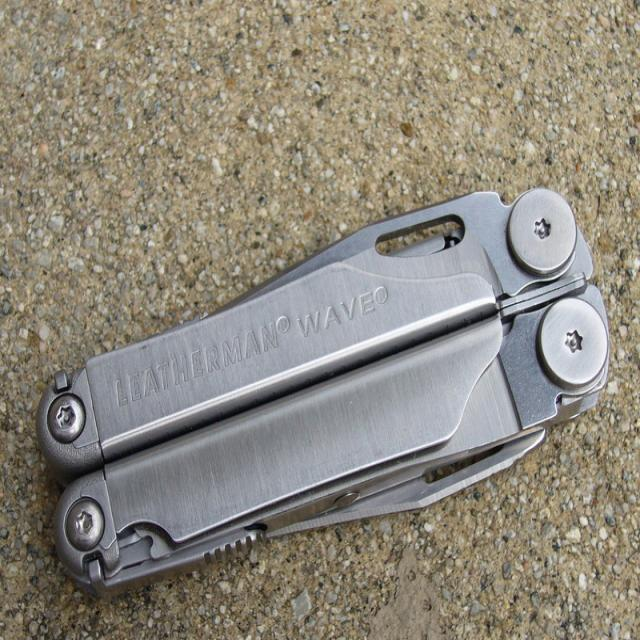tool- glouse: (37, 189, 608, 591)
